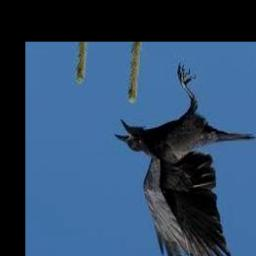Crow: (114, 64, 255, 256)
